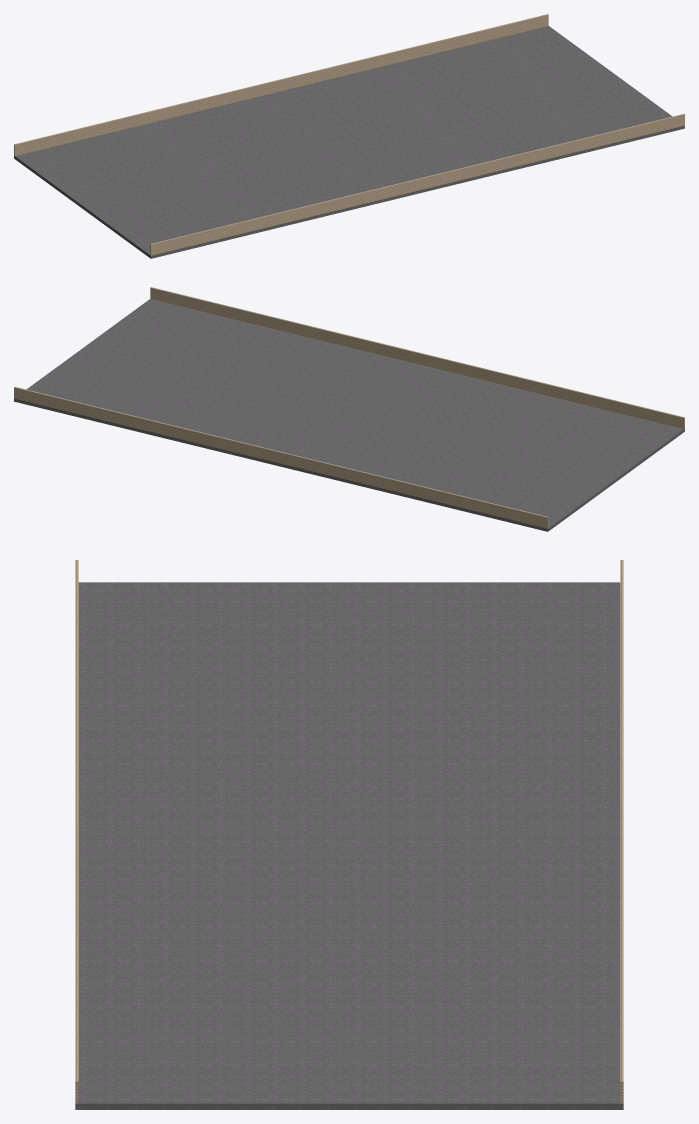
Rendered from bridge_main_downtown.glb.
The picture shows the model from 3 angles, top to bottom: view 1: azimuth 30°, elevation 25°; view 2: azimuth 150°, elevation 25°; view 3: azimuth 270°, elevation 25°; orthographic projection. The views are drawn at different scales.
Parts seen in each view (by area): view 1: bridge_main_downtown-col; view 2: bridge_main_downtown-col; view 3: bridge_main_downtown-col.
Boxes of the visible parts, bbox=[...] form: bridge_main_downtown-col: bbox=[14, 14, 684, 258]; bridge_main_downtown-col: bbox=[14, 287, 684, 531]; bridge_main_downtown-col: bbox=[75, 560, 623, 1109].
Bounding box in the file's own units: 45 × 1.15 × 20.
2 materials, 2 textured.
